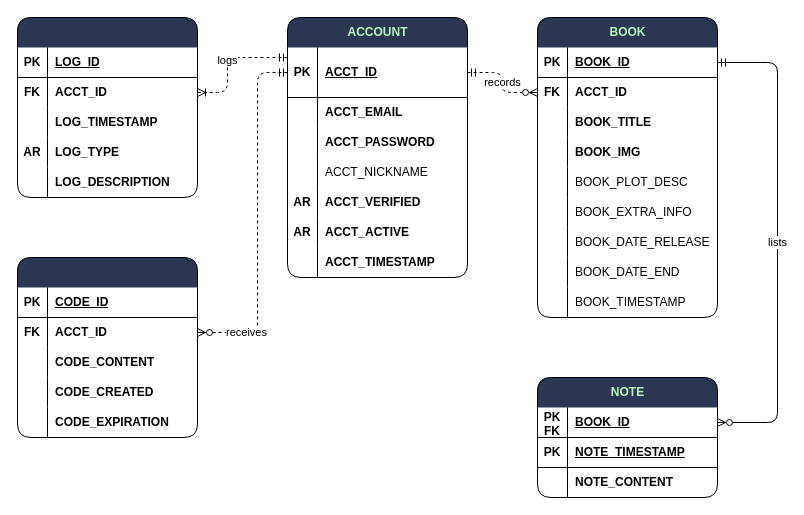
Some shapes in this 804 by 515 pixel diagram are drawn without their labels. Each missing label, with the box of its shape:
ACTIVITY_LOG: (16, 16, 198, 198)
VERIFICATION_CODE: (16, 256, 198, 438)
